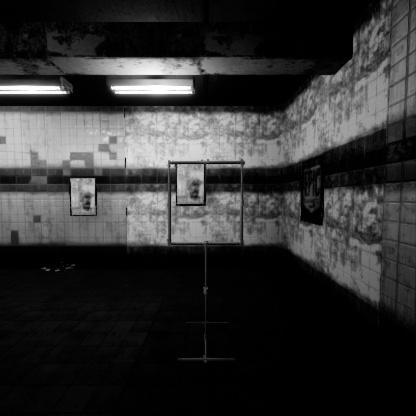gate: (168, 170, 251, 255)
